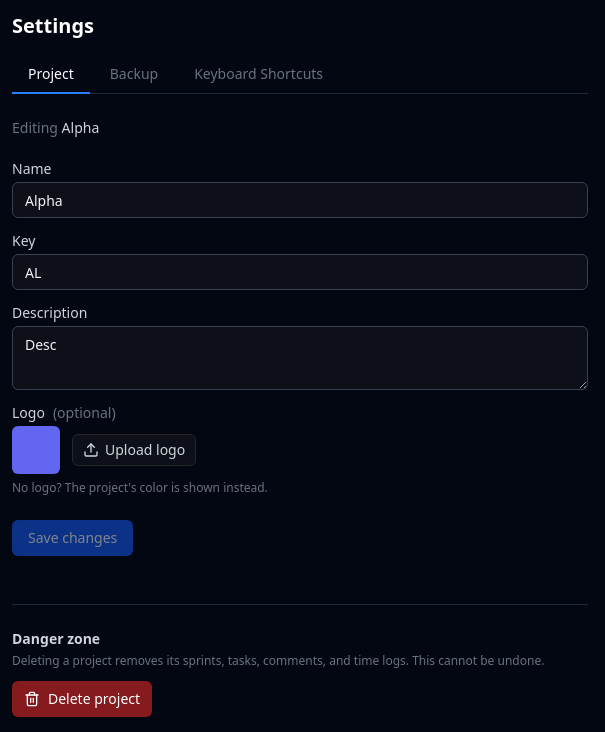
Test case: Settings — delete › hides confirmation when cancel is clicked
Expected: the field showing "Alpha" is shown, top-left (12, 182), bottom-right (588, 218)
Click the button "Delete project" at [82, 699], box top-left (12, 681), bottom-right (152, 717)
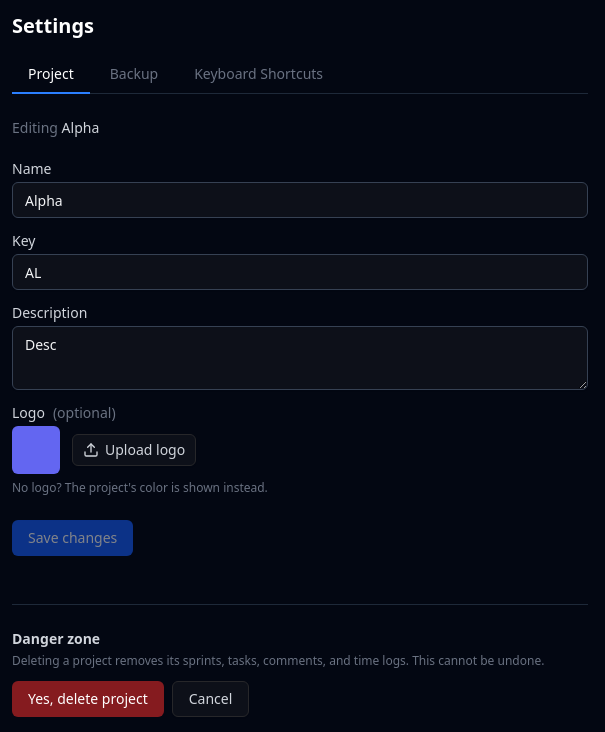
Click the button "Cancel" at [210, 699], box top-left (172, 681), bottom-right (249, 717)
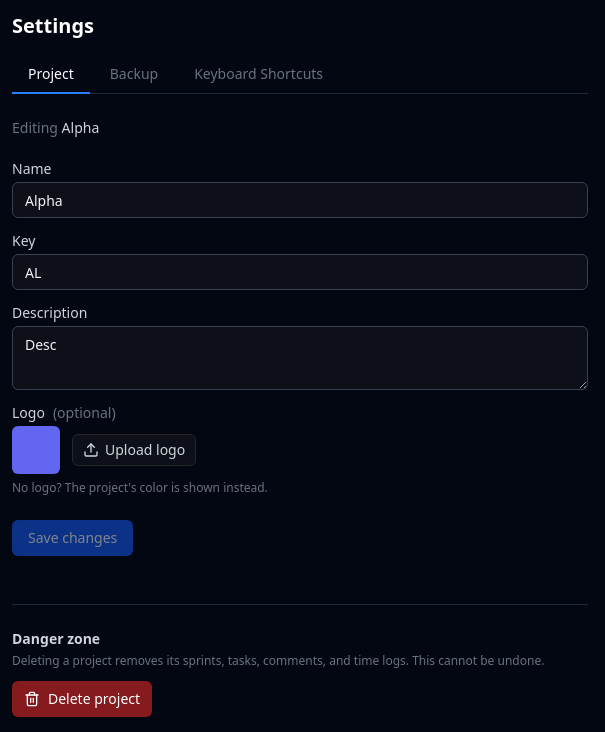
Expected: the button "Yes, delete project" is gone
